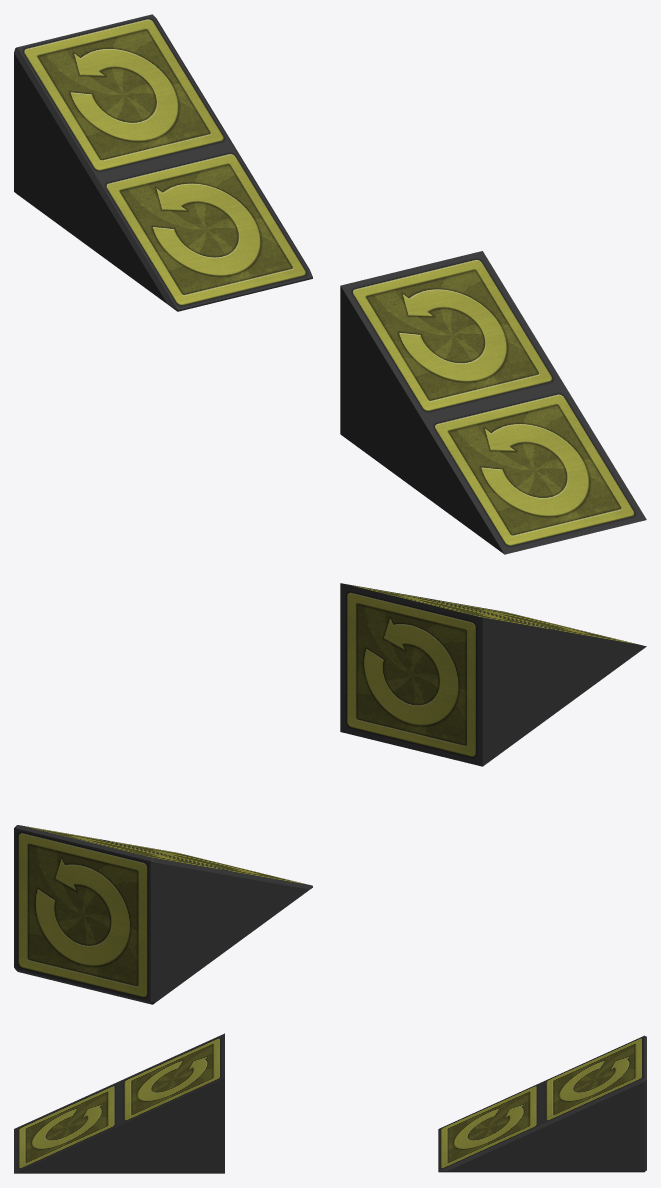
The model's file is slope.1x2.fbx.
3 views of the same model, one above another, from view 1: azimuth 30°, elevation 25°; view 2: azimuth 150°, elevation 25°; view 3: azimuth 270°, elevation 25° (orthographic). The views are drawn at different scales.
Parts seen in each view (by area): view 1: MESH slope.1x2, MESH slope.1x2.c; view 2: MESH slope.1x2, MESH slope.1x2.c; view 3: MESH slope.1x2, MESH slope.1x2.c.
Boxes of the visible parts, x1,y1,x2,y2 form: MESH slope.1x2: (340, 251, 646, 554); MESH slope.1x2.c: (14, 14, 312, 311); MESH slope.1x2: (340, 583, 646, 766); MESH slope.1x2.c: (14, 825, 312, 1004); MESH slope.1x2: (14, 1033, 224, 1173); MESH slope.1x2.c: (438, 1035, 646, 1172).
Size of what is drawn, in the model's own units: 100 by 100 by 600.
